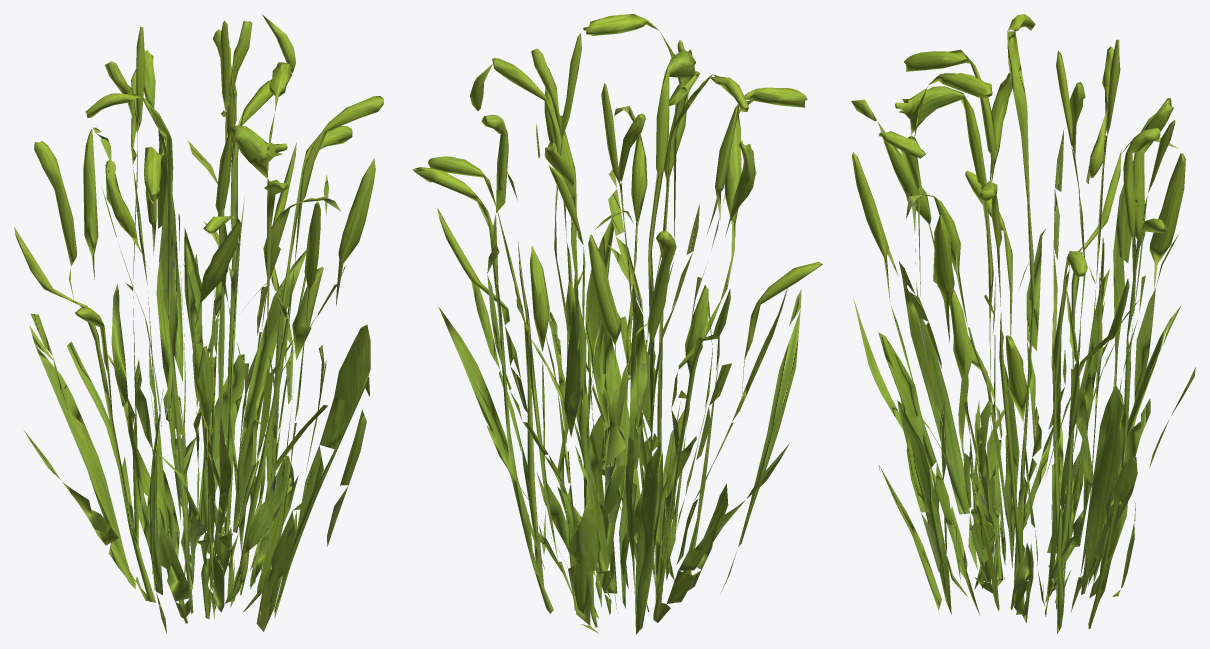
File: grass.glb
3 views of the same model, side by side, from view 1: azimuth 30°, elevation 25°; view 2: azimuth 150°, elevation 25°; view 3: azimuth 270°, elevation 25° (orthographic).
Size of the model in its own units: 1.2 by 1.89 by 1.03.
Materials: 1 (1 with a texture image).
